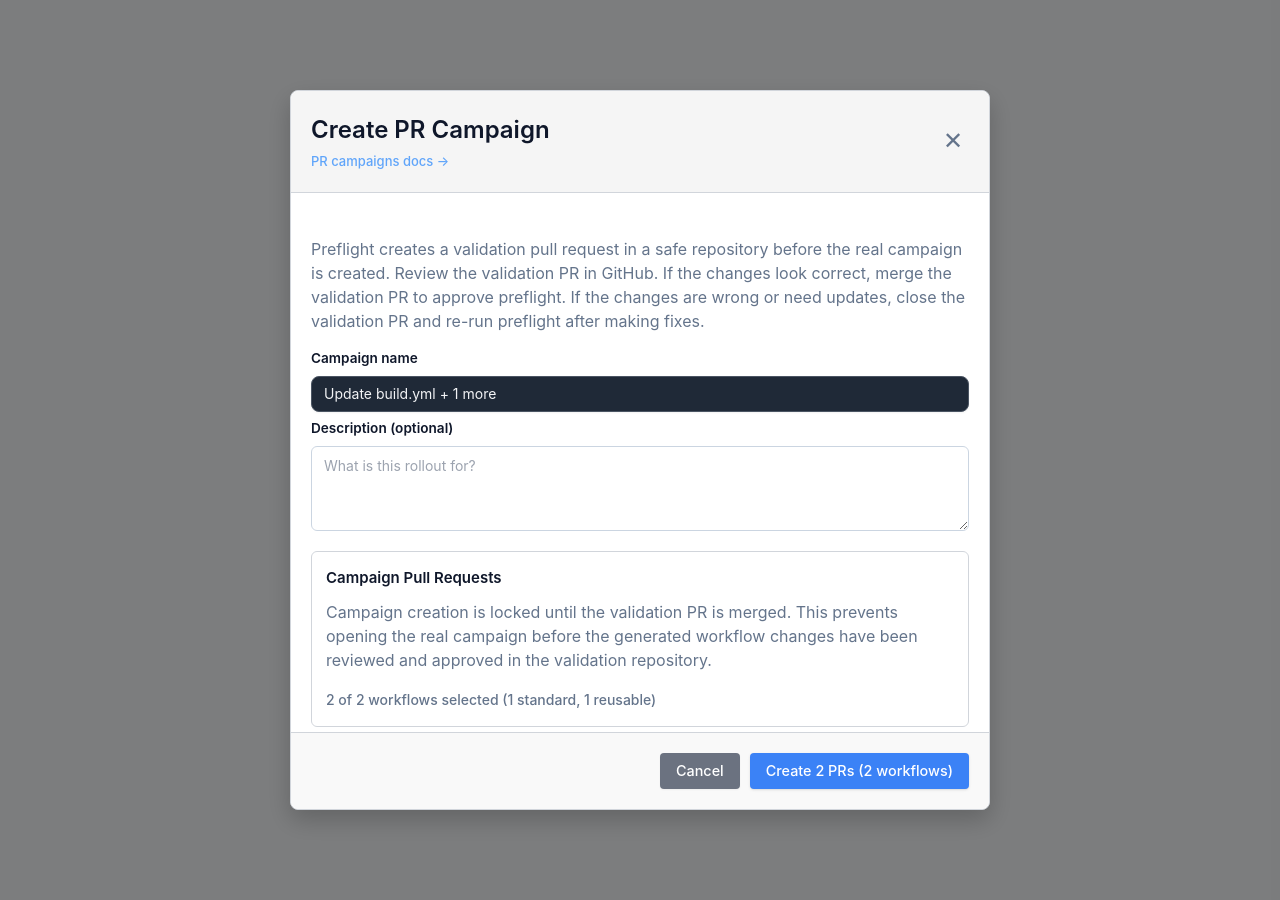
it: CreatePRModal › PR creation progress › shows partial failure with error message
This screenshot has width=1280, height=900.
Step 1. Click the button "Create 2 PRs (2 workflows)" → x=859, y=771, box [750,753,969,789]
Wait 1500 ms
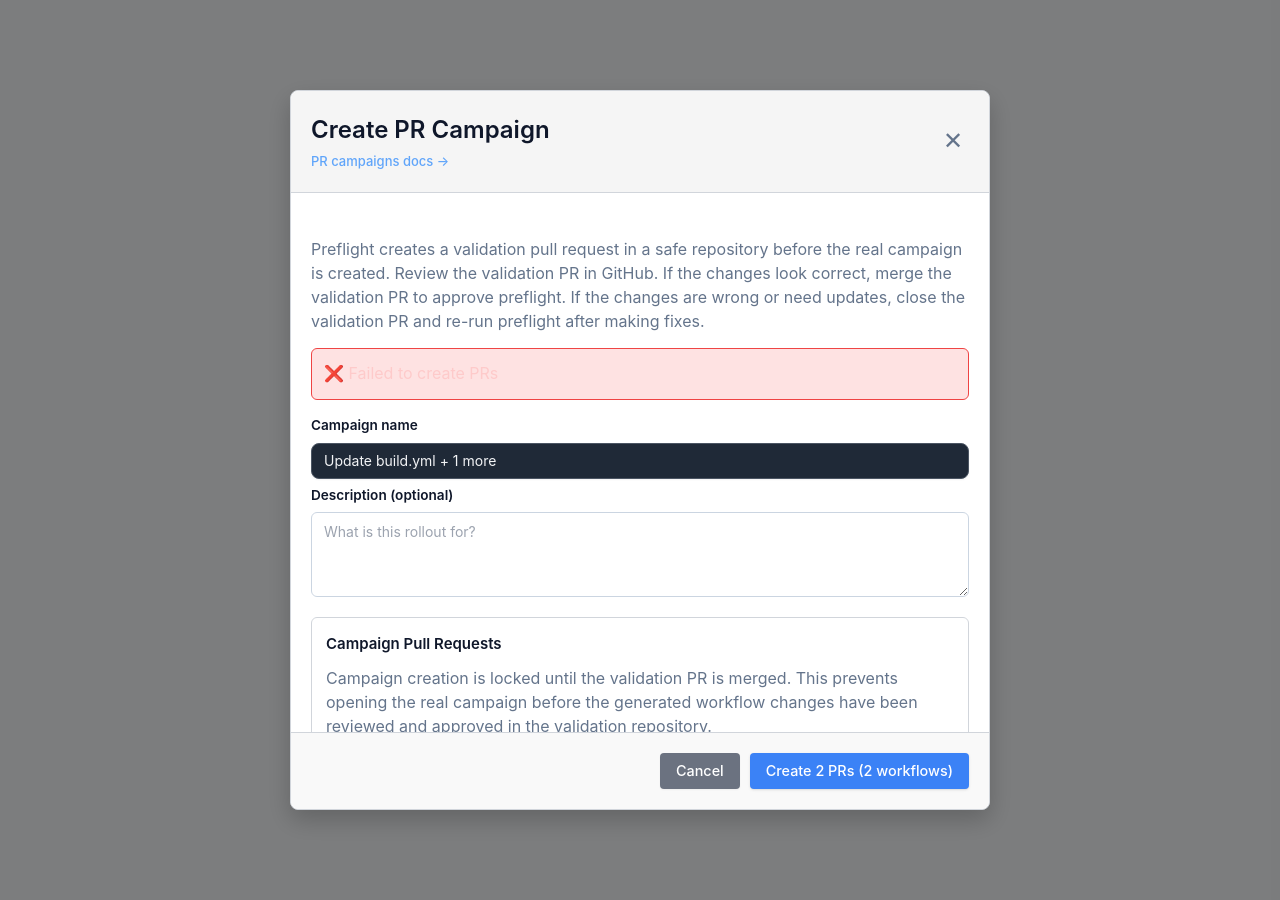
Now the text "❌ Failed to create PRs" is shown, box [311,348,969,400]
